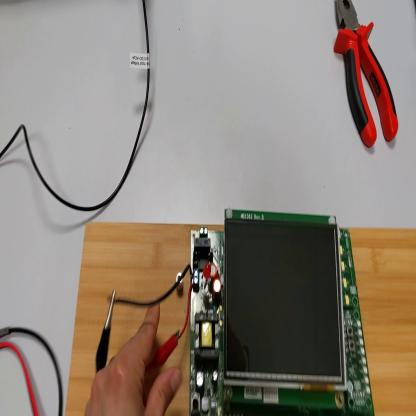hand: (85, 298, 183, 416)
low voltage board: (109, 219, 377, 416)
pliers: (332, 3, 402, 150)
working area: (65, 223, 416, 415)
